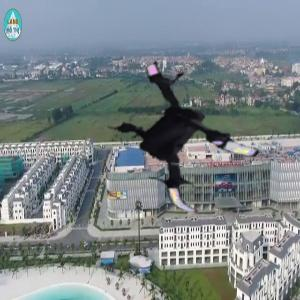drone: (91, 45, 265, 219)
